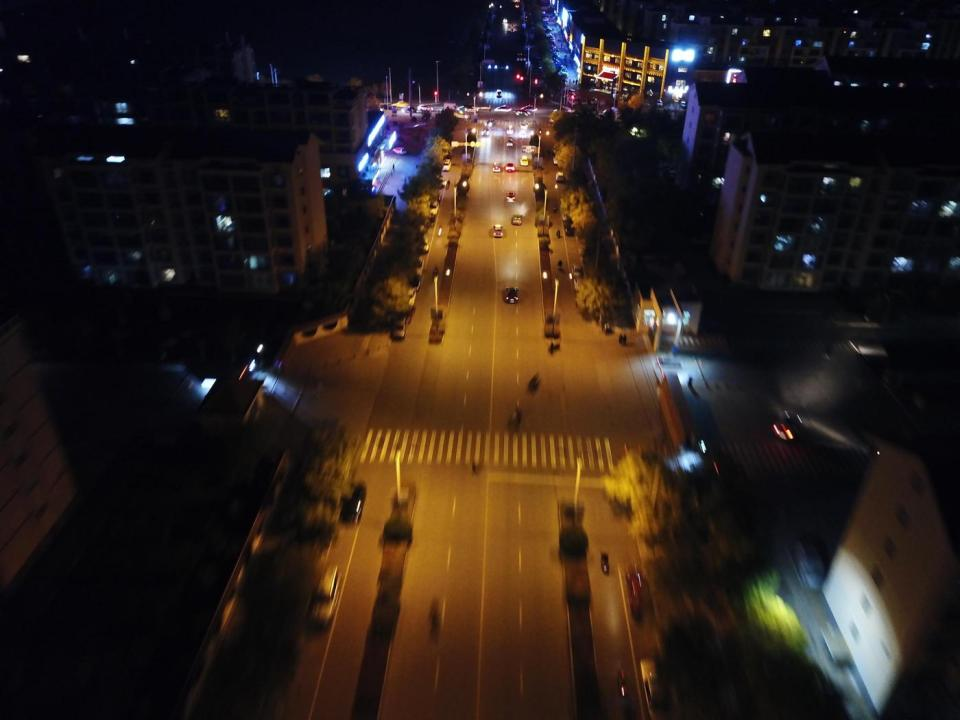car: (815, 614, 853, 668), (640, 658, 672, 720), (792, 537, 828, 592), (625, 564, 655, 620), (339, 482, 367, 525), (774, 410, 804, 440), (396, 286, 416, 312), (390, 315, 407, 339), (410, 256, 424, 274), (505, 287, 519, 303), (406, 274, 420, 290), (576, 292, 588, 309), (658, 170, 674, 181), (423, 212, 435, 226), (427, 199, 438, 214), (571, 264, 584, 276), (417, 238, 428, 252), (494, 104, 512, 112), (574, 278, 586, 290), (520, 104, 538, 112), (564, 222, 574, 236), (513, 108, 530, 116), (392, 146, 407, 155), (493, 224, 503, 237), (512, 214, 522, 227), (417, 104, 433, 112), (454, 111, 470, 119), (441, 158, 450, 172), (603, 321, 612, 335), (401, 106, 418, 113), (434, 176, 444, 187), (506, 192, 516, 202), (380, 104, 396, 110), (392, 101, 408, 107), (562, 209, 570, 221), (465, 105, 478, 112), (485, 118, 495, 127), (505, 163, 515, 172), (432, 191, 440, 202), (520, 156, 528, 166), (548, 116, 561, 122), (566, 94, 581, 99), (482, 127, 490, 136), (493, 163, 501, 172), (443, 148, 452, 156), (553, 144, 560, 154), (562, 93, 575, 98), (554, 155, 562, 163), (590, 96, 598, 104), (598, 113, 606, 121), (506, 125, 513, 134), (506, 137, 513, 146), (561, 105, 570, 112), (519, 130, 526, 138), (604, 109, 612, 116), (567, 99, 577, 104), (520, 122, 526, 130), (554, 65, 566, 69), (563, 89, 575, 93), (611, 107, 619, 113), (549, 51, 560, 55), (581, 98, 587, 105), (552, 60, 560, 65), (657, 99, 662, 107), (558, 68, 567, 72), (558, 78, 567, 82), (548, 37, 555, 42), (548, 48, 559, 51), (559, 81, 567, 85), (550, 58, 560, 61), (558, 72, 568, 75), (539, 13, 546, 17), (537, 5, 544, 9), (544, 31, 551, 35), (545, 34, 552, 38), (548, 42, 555, 46), (548, 45, 555, 49), (550, 55, 559, 58), (541, 21, 549, 24), (532, 26, 536, 32), (543, 28, 551, 31), (560, 75, 568, 78), (517, 52, 522, 56), (538, 66, 542, 71), (503, 18, 507, 22), (540, 18, 548, 20), (541, 25, 549, 27), (538, 60, 542, 64), (536, 56, 541, 59), (510, 24, 514, 27), (539, 10, 544, 12), (515, 0, 518, 2), (516, 5, 518, 7), (511, 29, 513, 31)
truck: (443, 102, 459, 111)
van: (311, 565, 340, 627), (556, 171, 564, 181), (496, 89, 502, 97), (681, 101, 687, 108), (564, 53, 567, 59)
